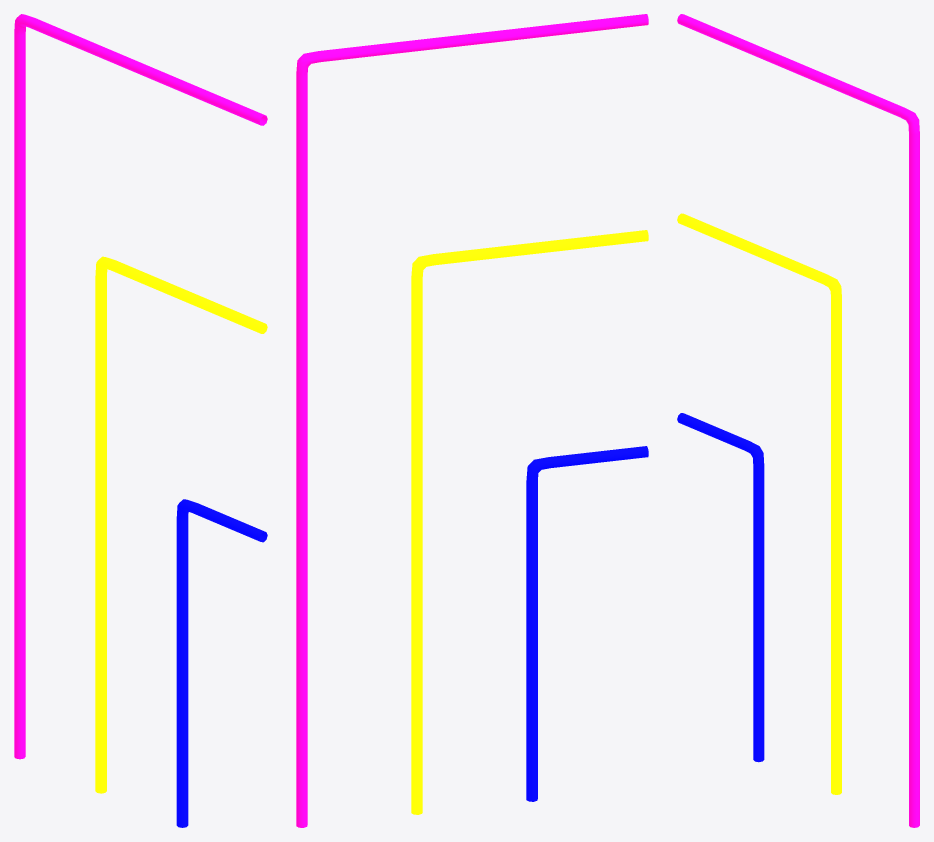
File: MiniUnit1StageRopeLights.glb
3 renders of one model, left to right at view 1: azimuth 90°, elevation 25°; view 2: azimuth 150°, elevation 25°; view 3: azimuth 270°, elevation 25°, orthographic. The views are drawn at different scales.
Visible parts, largest first — view 1: RopeLights; view 2: RopeLights; view 3: RopeLights.
Boxes of the visible parts, x1,y1,x2,y2 form: RopeLights: (14,14,267,827); RopeLights: (296,14,648,827); RopeLights: (677,14,919,827).
Size of the model in its own units: 0.4413 by 1.43 by 0.4413.
